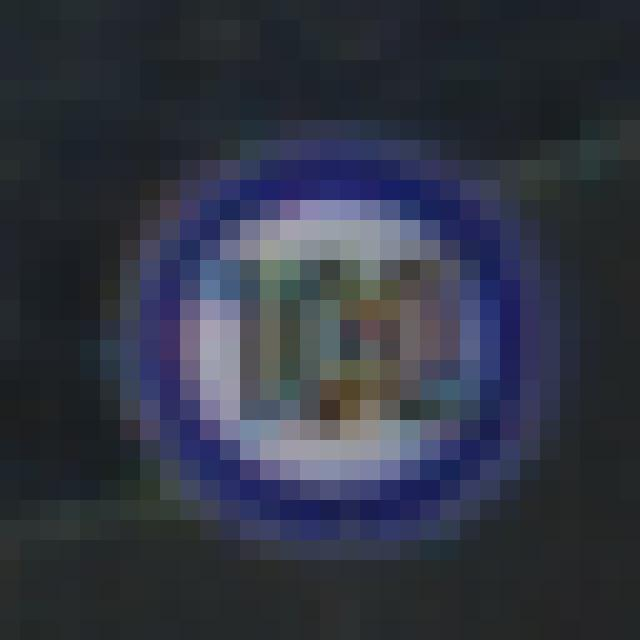SPEED LIMIT 100: (120, 144, 548, 542)
